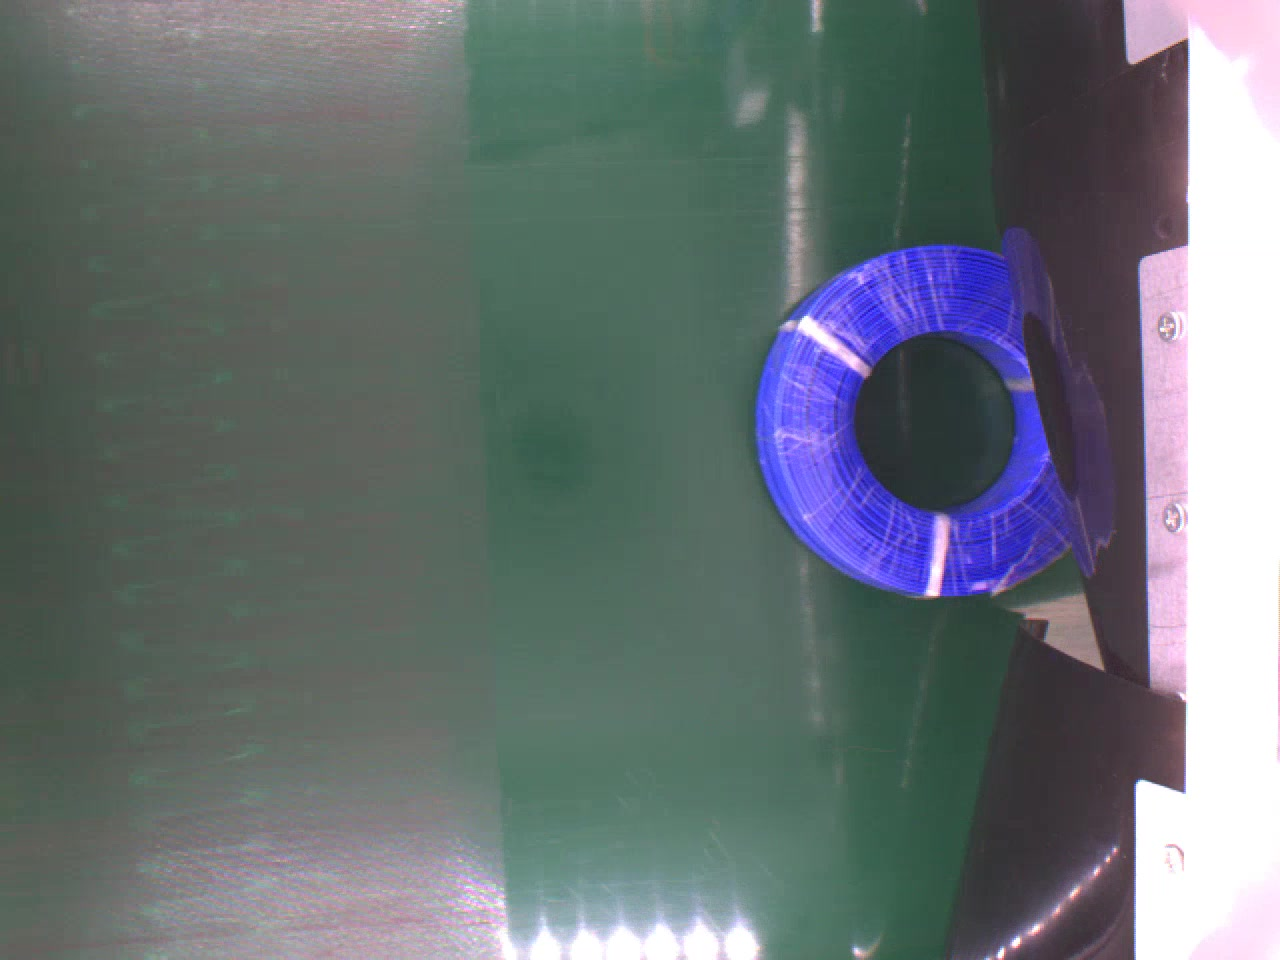blue: (757, 246, 1072, 595)
